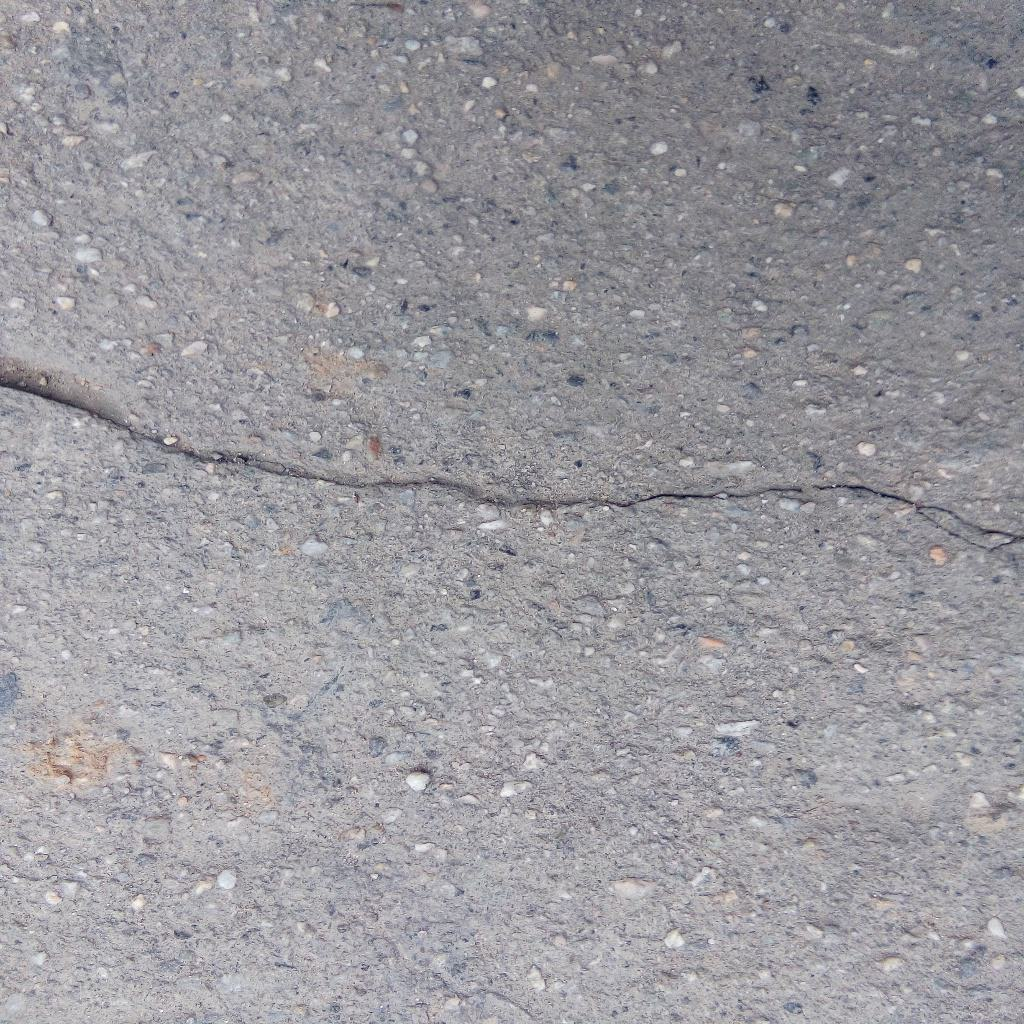Crack: (1, 372, 1024, 552)
